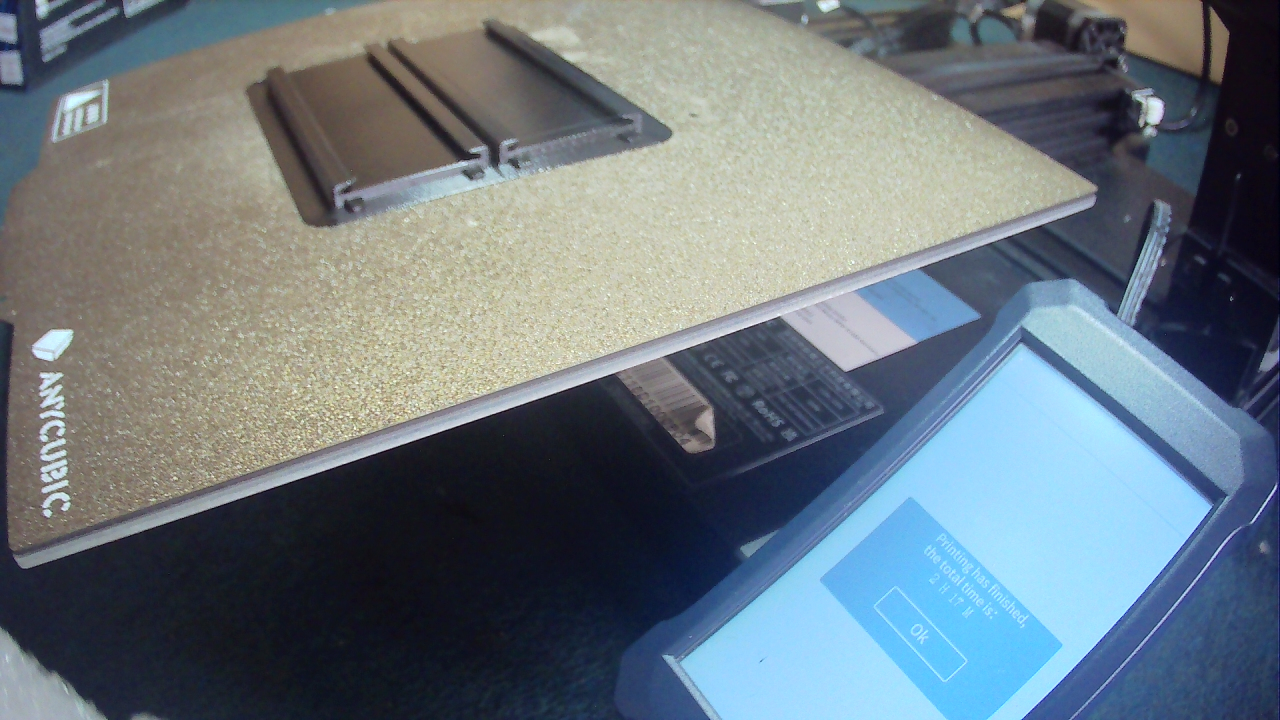Comp: (820, 495, 1065, 720)
